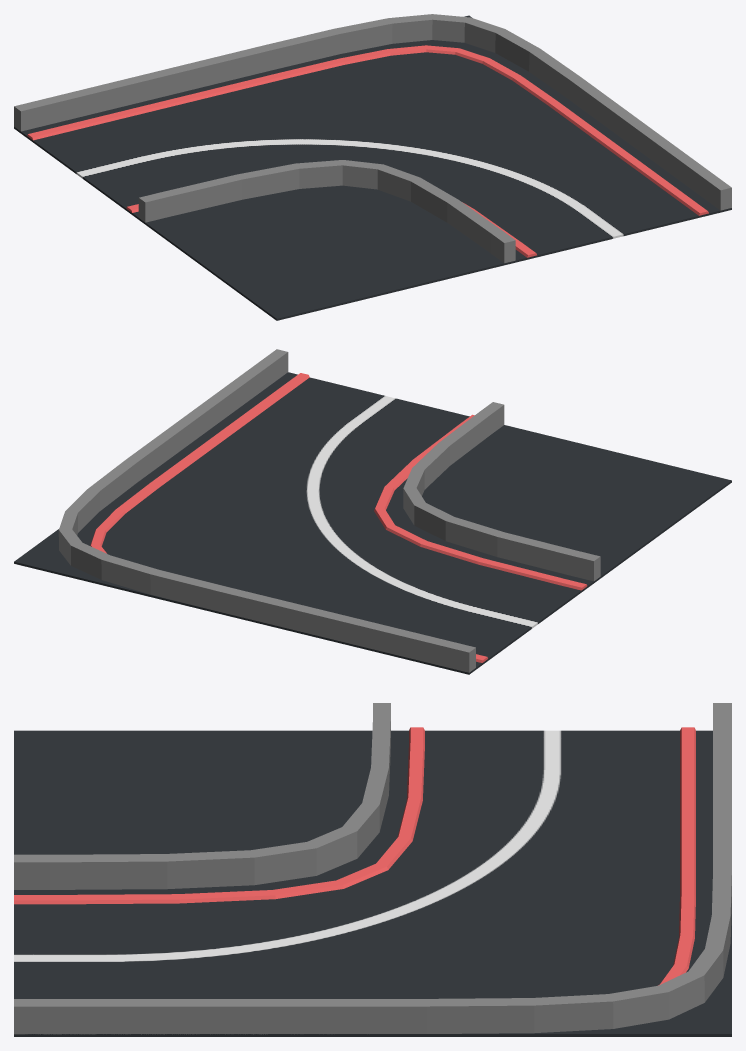
Rendered from kartkids_base_trk_080_trn_wide_l_2x2.gltf.
3 renders of one model, top to bottom at view 1: azimuth 30°, elevation 25°; view 2: azimuth 150°, elevation 25°; view 3: azimuth 270°, elevation 25°, orthographic. The views are drawn at different scales.
Visible parts, largest first — view 1: kartkids_base_trk_080_trn_wide_l_2x2, kartkids_base_trk_080_trn_wide_l_2x2.003, kartkids_base_trk_080_trn_wide_l_2x2.001; view 2: kartkids_base_trk_080_trn_wide_l_2x2, kartkids_base_trk_080_trn_wide_l_2x2.003, kartkids_base_trk_080_trn_wide_l_2x2.001, kartkids_base_trk_080_trn_wide_l_2x2.002; view 3: kartkids_base_trk_080_trn_wide_l_2x2, kartkids_base_trk_080_trn_wide_l_2x2.003, kartkids_base_trk_080_trn_wide_l_2x2.002, kartkids_base_trk_080_trn_wide_l_2x2.001.
Part boxes in pixels (bbox=[...]): kartkids_base_trk_080_trn_wide_l_2x2: bbox=[14, 15, 731, 320]; kartkids_base_trk_080_trn_wide_l_2x2.003: bbox=[14, 14, 731, 263]; kartkids_base_trk_080_trn_wide_l_2x2.001: bbox=[27, 45, 708, 215]; kartkids_base_trk_080_trn_wide_l_2x2: bbox=[14, 372, 731, 674]; kartkids_base_trk_080_trn_wide_l_2x2.003: bbox=[58, 349, 600, 672]; kartkids_base_trk_080_trn_wide_l_2x2.001: bbox=[90, 373, 487, 662]; kartkids_base_trk_080_trn_wide_l_2x2.002: bbox=[374, 414, 587, 590]; kartkids_base_trk_080_trn_wide_l_2x2: bbox=[14, 730, 731, 1036]; kartkids_base_trk_080_trn_wide_l_2x2.003: bbox=[14, 703, 731, 1034]; kartkids_base_trk_080_trn_wide_l_2x2.002: bbox=[14, 727, 424, 904]; kartkids_base_trk_080_trn_wide_l_2x2.001: bbox=[658, 727, 695, 985].
Bounding box in the file's own units: 20 × 0.9339 × 20.
Materials: 3 (1 with a texture image).
